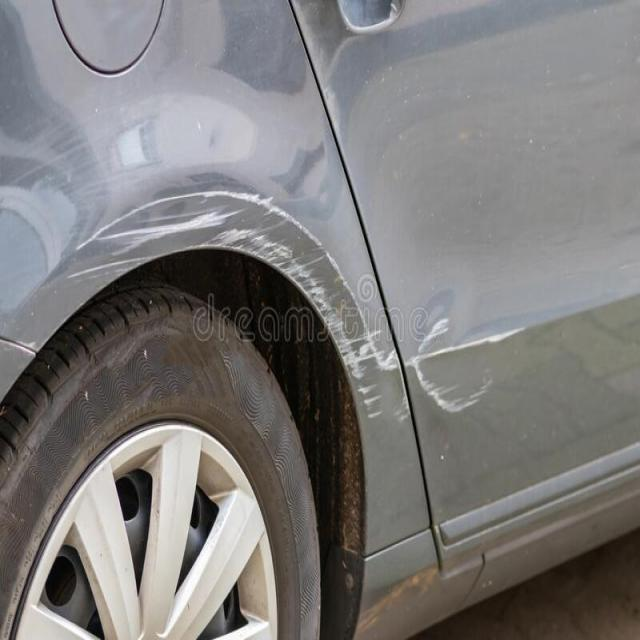doorouter-dent: (374, 6, 634, 592)
quaterpanel-dent: (0, 0, 316, 489), (135, 218, 373, 594)
